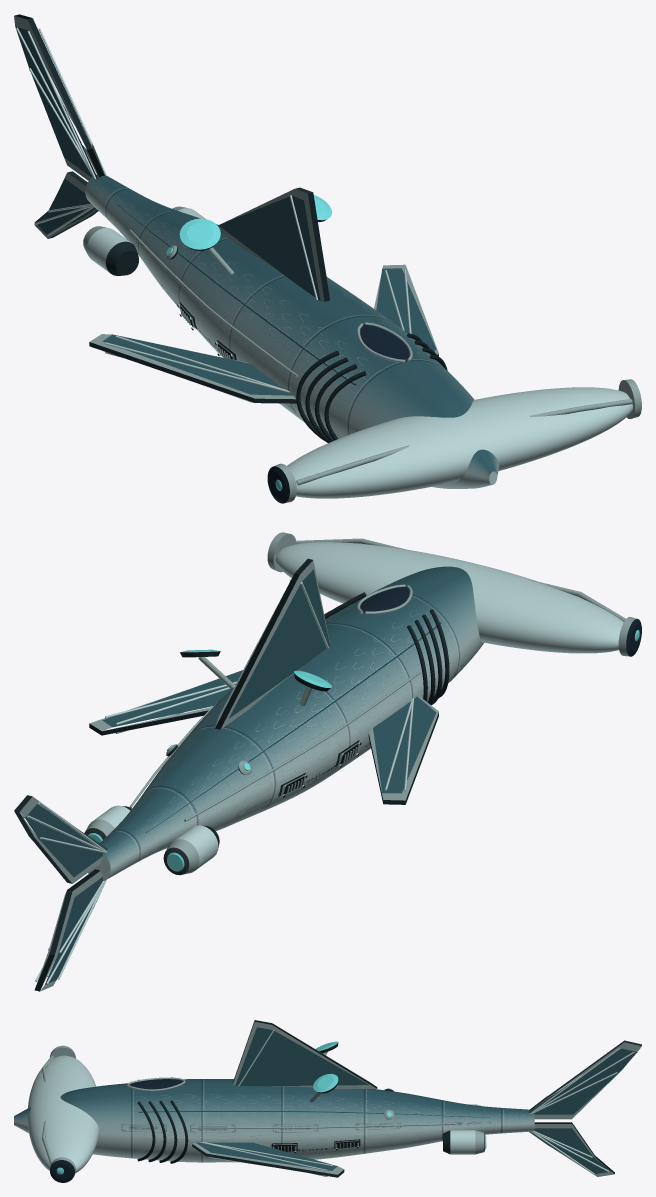
Rendered from ship.glb.
The picture shows the model from 3 angles, top to bottom: view 1: azimuth 30°, elevation 25°; view 2: azimuth 150°, elevation 25°; view 3: azimuth 270°, elevation 25°; orthographic projection. The views are drawn at different scales.
Visible parts, largest first — view 1: hammerhead_hull; view 2: hammerhead_hull; view 3: hammerhead_hull.
Boxes of the visible parts, x1,y1,x2,y2 form: hammerhead_hull: (14, 14, 641, 503); hammerhead_hull: (14, 532, 641, 991); hammerhead_hull: (14, 1020, 641, 1182).
Bounding box in the file's own units: 119 × 74.23 × 272.
Materials: 1 (1 with a texture image).
